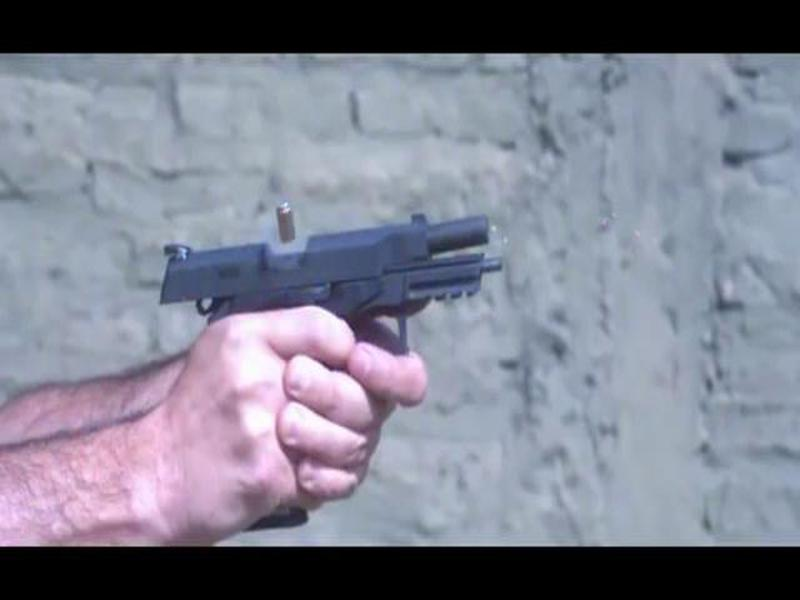Pistola: (156, 197, 505, 421)
